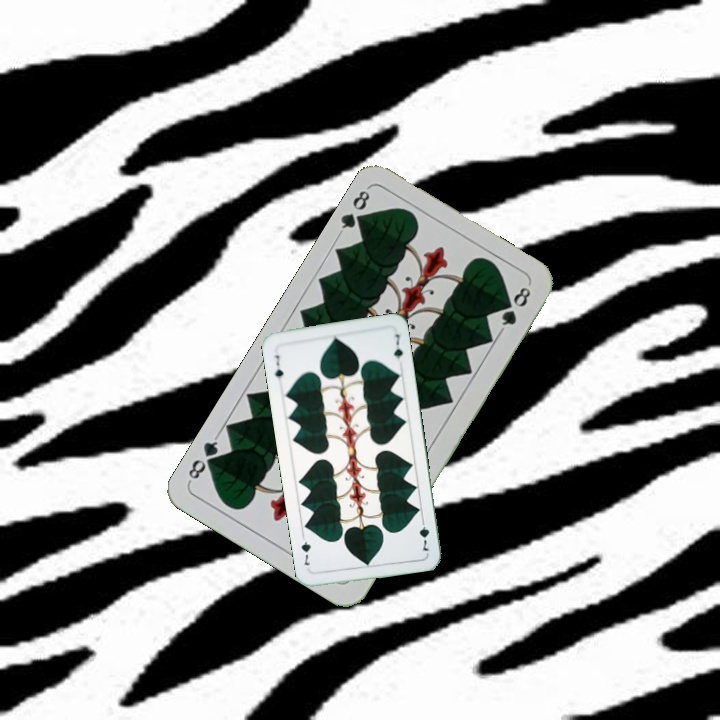G7: (415, 514, 432, 554), (271, 351, 286, 381)
G8: (334, 184, 373, 237)
